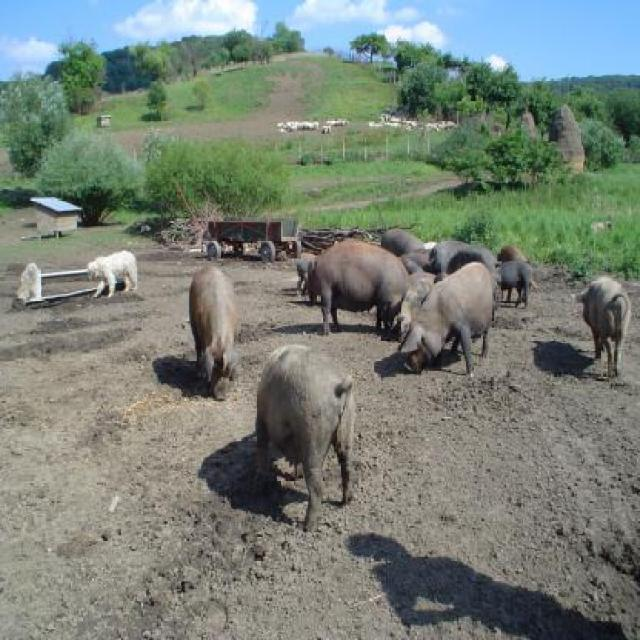pig: (294, 226, 537, 379), (254, 343, 356, 534), (188, 263, 240, 398), (568, 277, 629, 375)
